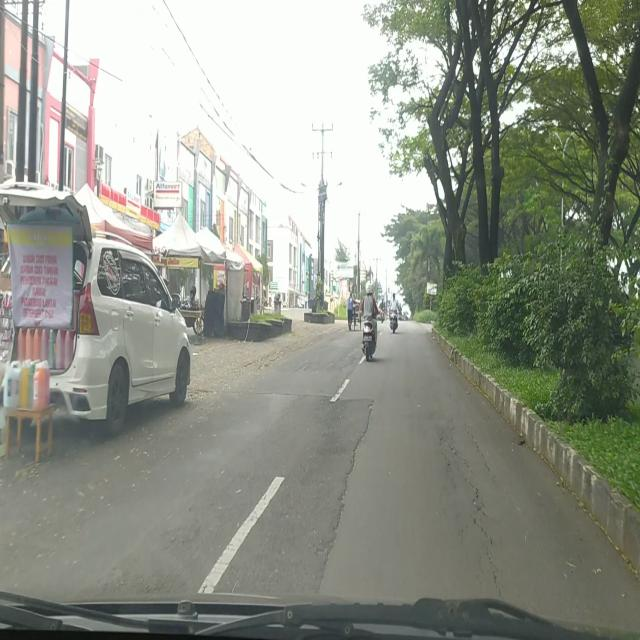Drain Hole: (437, 422, 508, 594)
